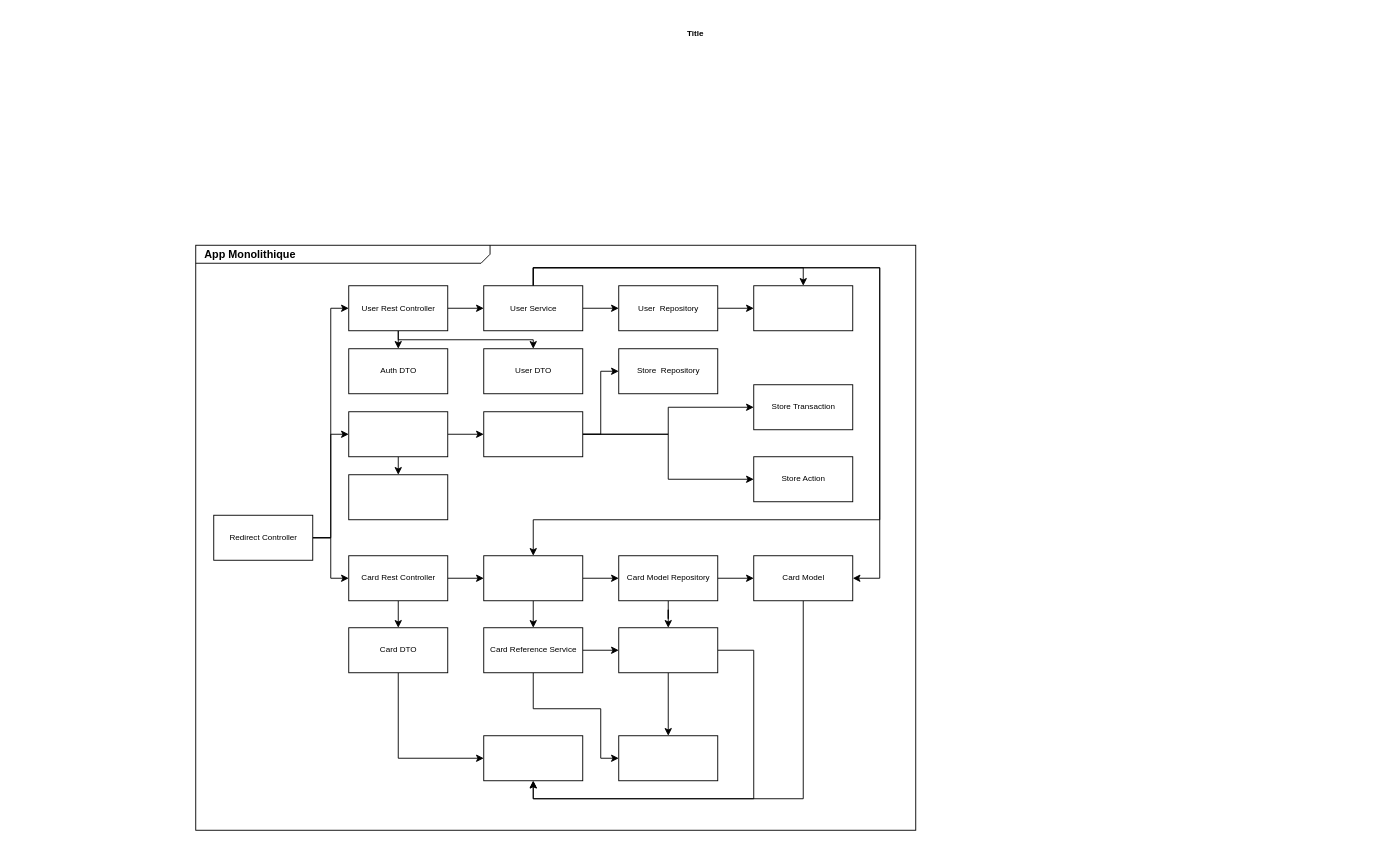
Image size: 1390x846. Some labels were removed from this diagram. The centre of each missing label's shape, as x and y in pixels:
"Card Basic" goes at pixel 533 758.
"Card Model Service" goes at pixel 533 578.
"Card Reference" goes at pixel 668 650.
"Card Reference Repository" goes at pixel 668 758.
"Store Order" goes at pixel 398 497.
"Store Rest Controller" goes at pixel 398 434.
"Store Service" goes at pixel 533 434.
"User Model" goes at pixel 803 308.
